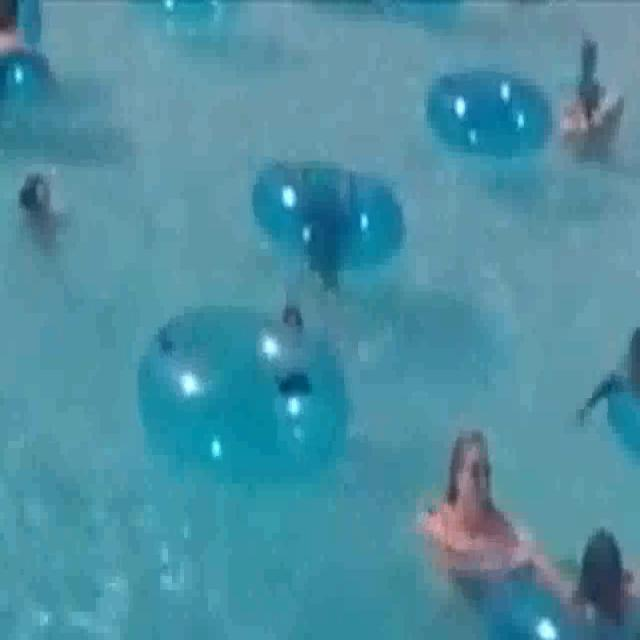drowning: (244, 256, 332, 361)
